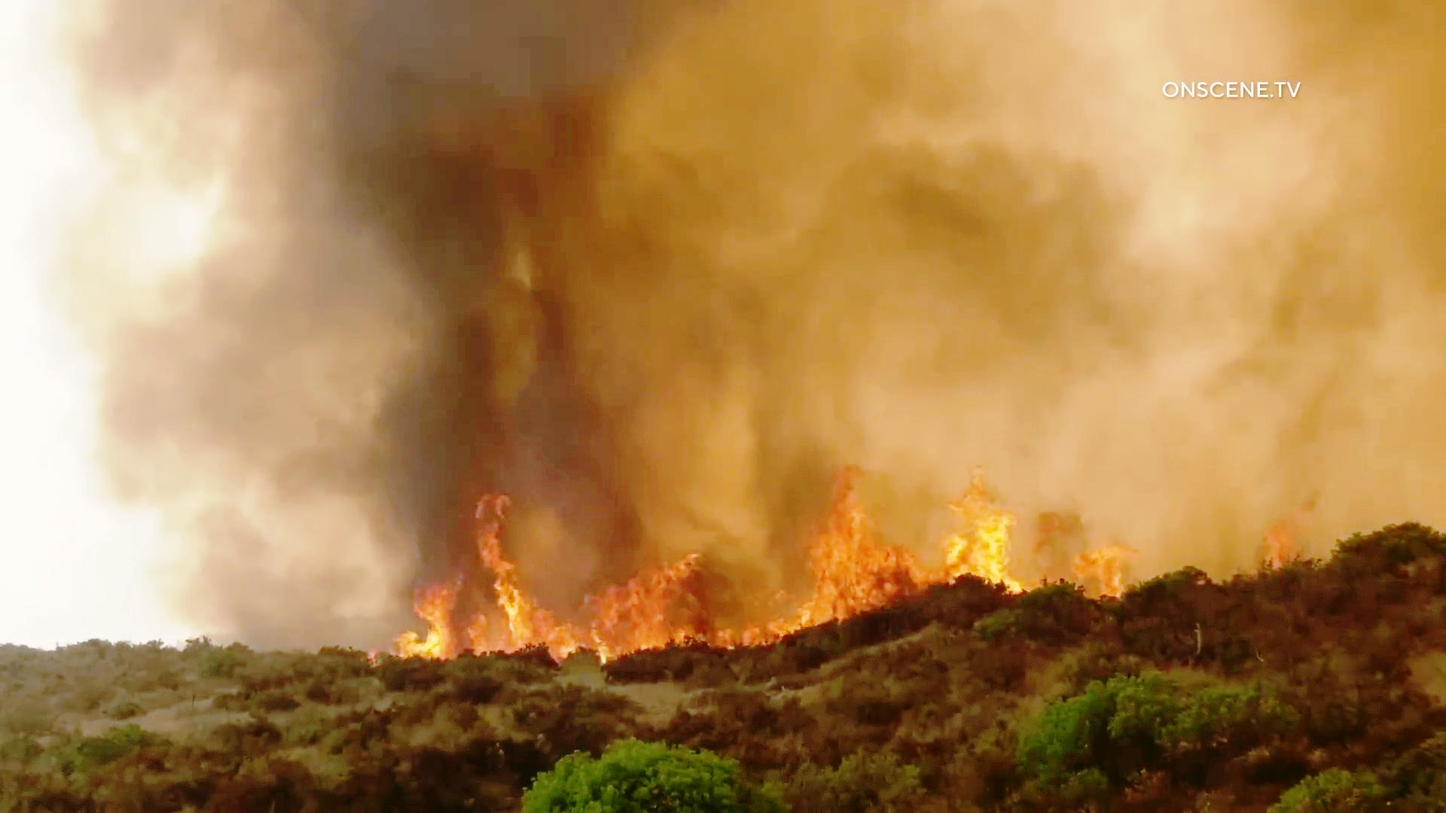fire: (740, 467, 942, 669), (368, 473, 551, 675), (539, 512, 720, 661), (941, 480, 1030, 601), (1076, 525, 1141, 595), (1252, 493, 1307, 574)
smoke: (313, 36, 638, 491), (1222, 198, 1401, 478), (720, 300, 813, 547)
